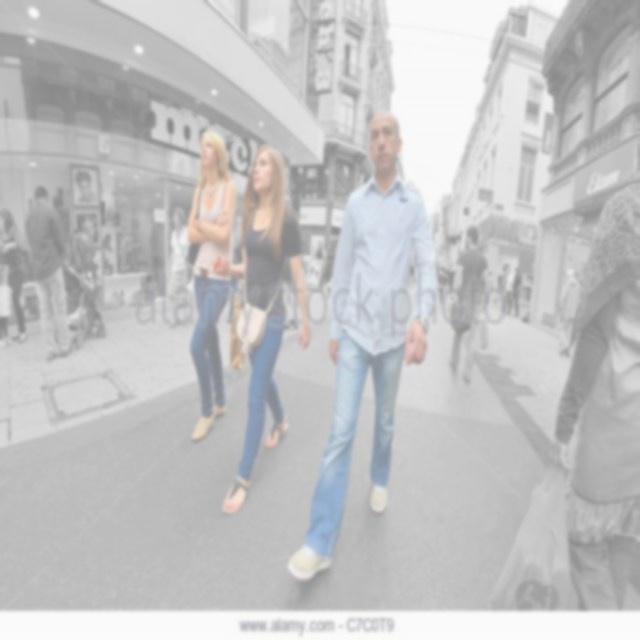pessoa: (285, 105, 440, 585), (549, 128, 639, 616), (209, 140, 313, 518), (187, 127, 239, 444), (24, 183, 75, 362), (283, 183, 342, 332), (446, 222, 490, 385), (99, 180, 161, 274), (0, 206, 29, 346), (169, 206, 192, 329), (555, 264, 583, 359), (69, 212, 99, 288), (228, 218, 248, 324), (0, 268, 13, 349), (74, 268, 99, 310), (505, 266, 522, 321), (72, 167, 97, 203), (480, 268, 495, 313), (496, 260, 508, 312), (504, 265, 515, 316), (436, 265, 449, 306), (86, 208, 98, 245), (443, 262, 456, 296), (408, 258, 415, 288), (572, 270, 584, 286), (435, 261, 442, 281)
